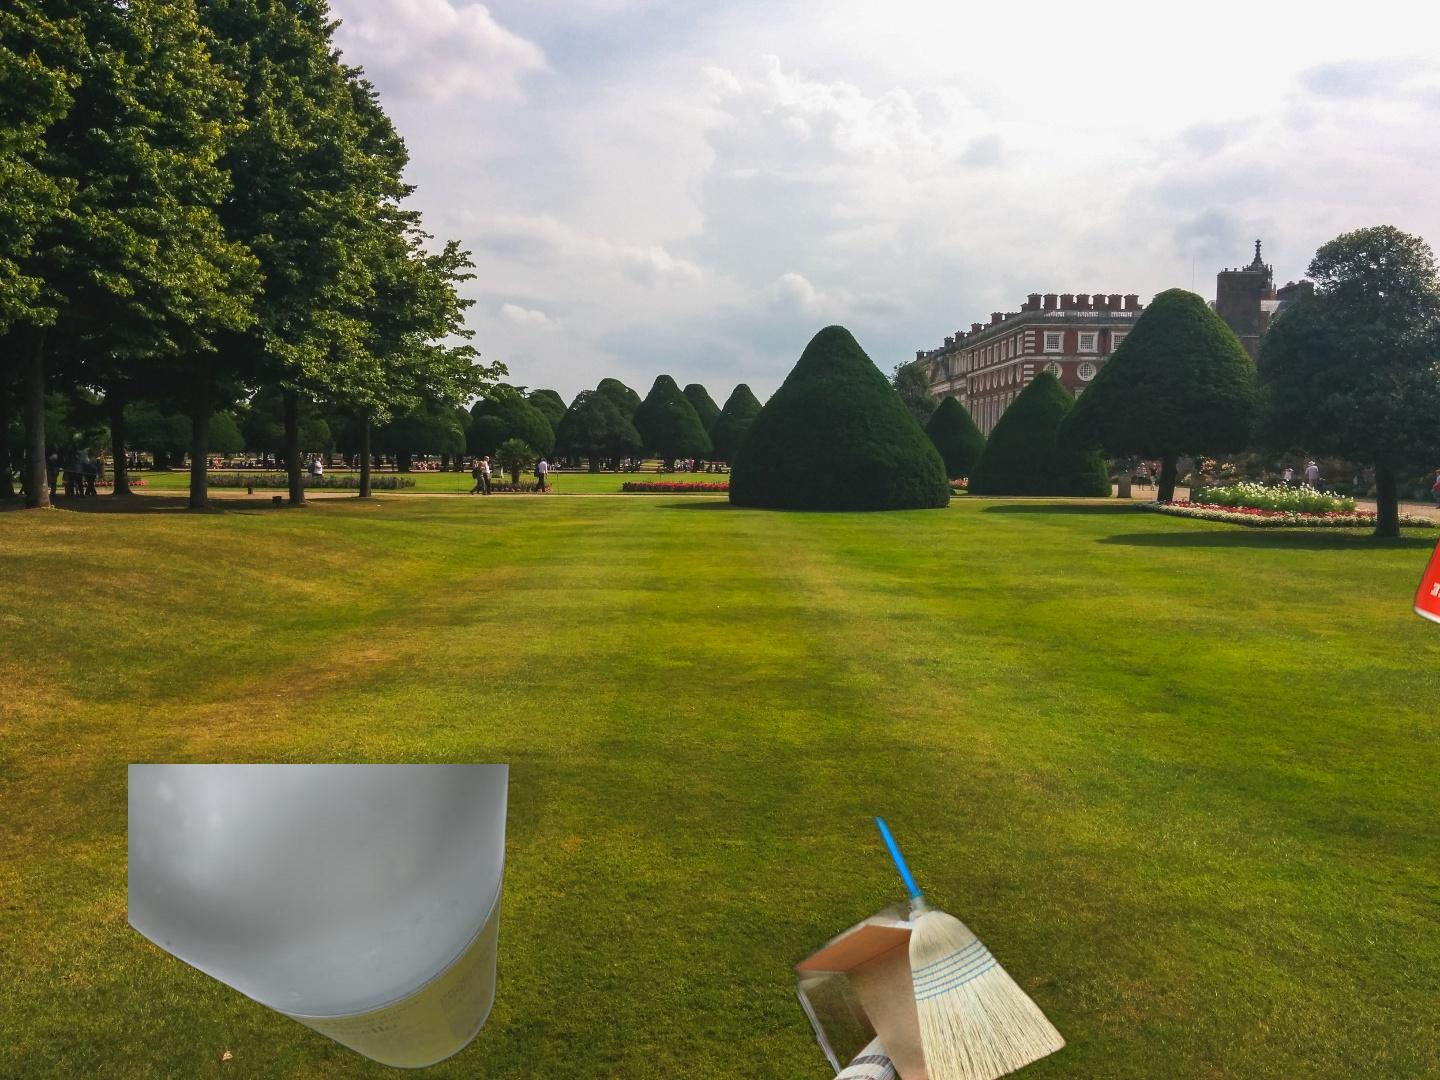glass: (128, 763, 514, 1071)
metal-cans: (1408, 382, 1440, 643)
trashbox-cardboard: (468, 817, 1075, 1080)
